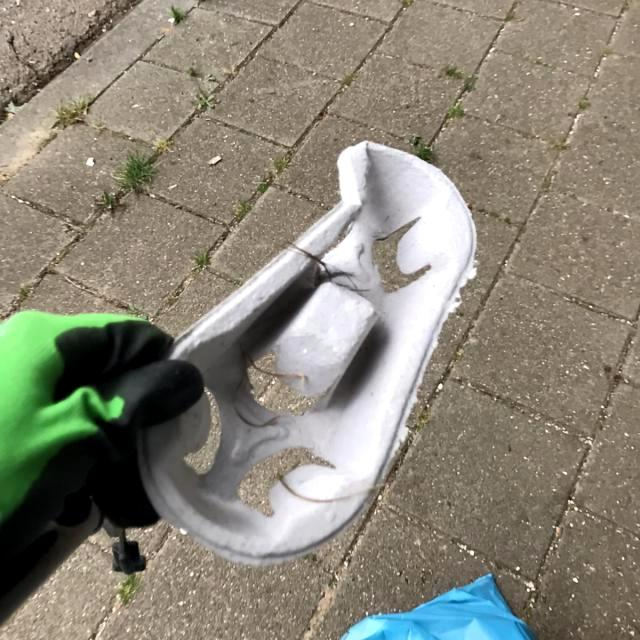Paper: (131, 138, 481, 568)
